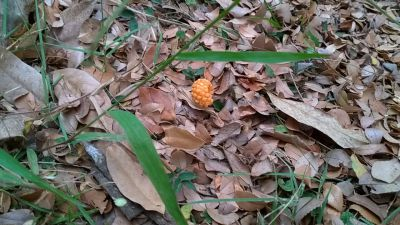eggs: (187, 74, 216, 110)
